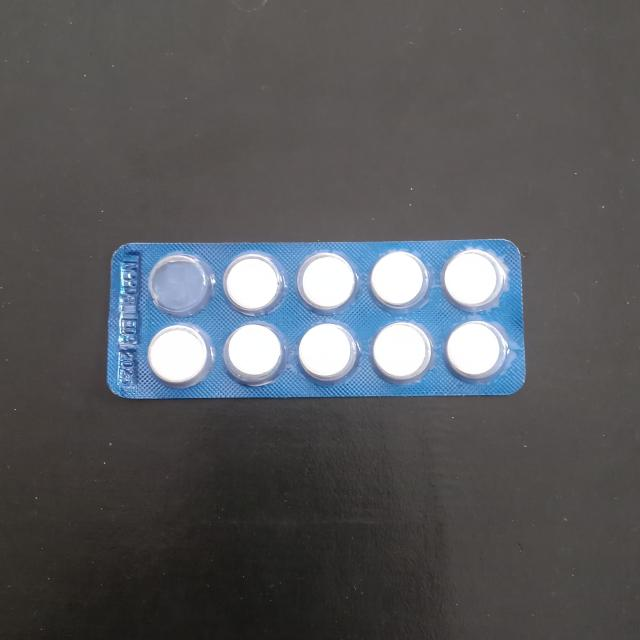defect: (147, 250, 217, 322)
